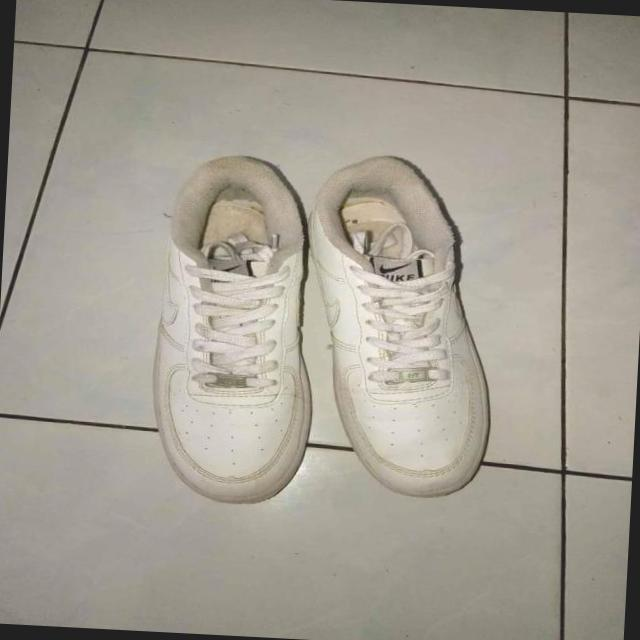nike_fake_airforce: (296, 148, 510, 498), (144, 146, 338, 509)
